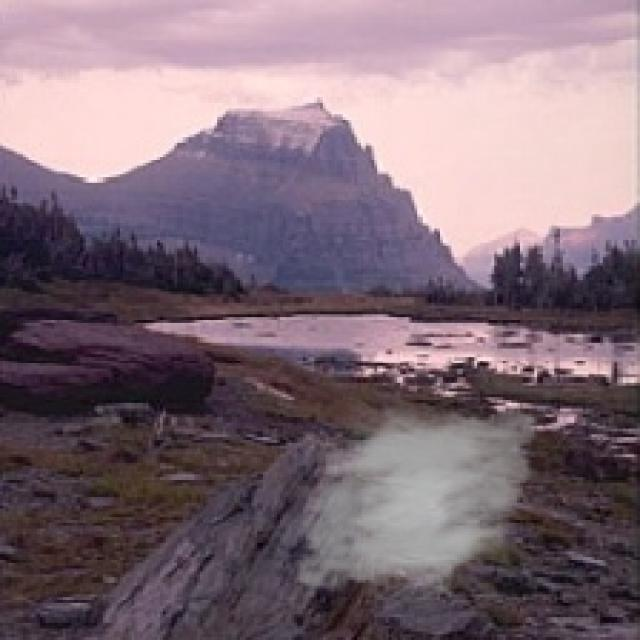smoke: (286, 388, 548, 606)
